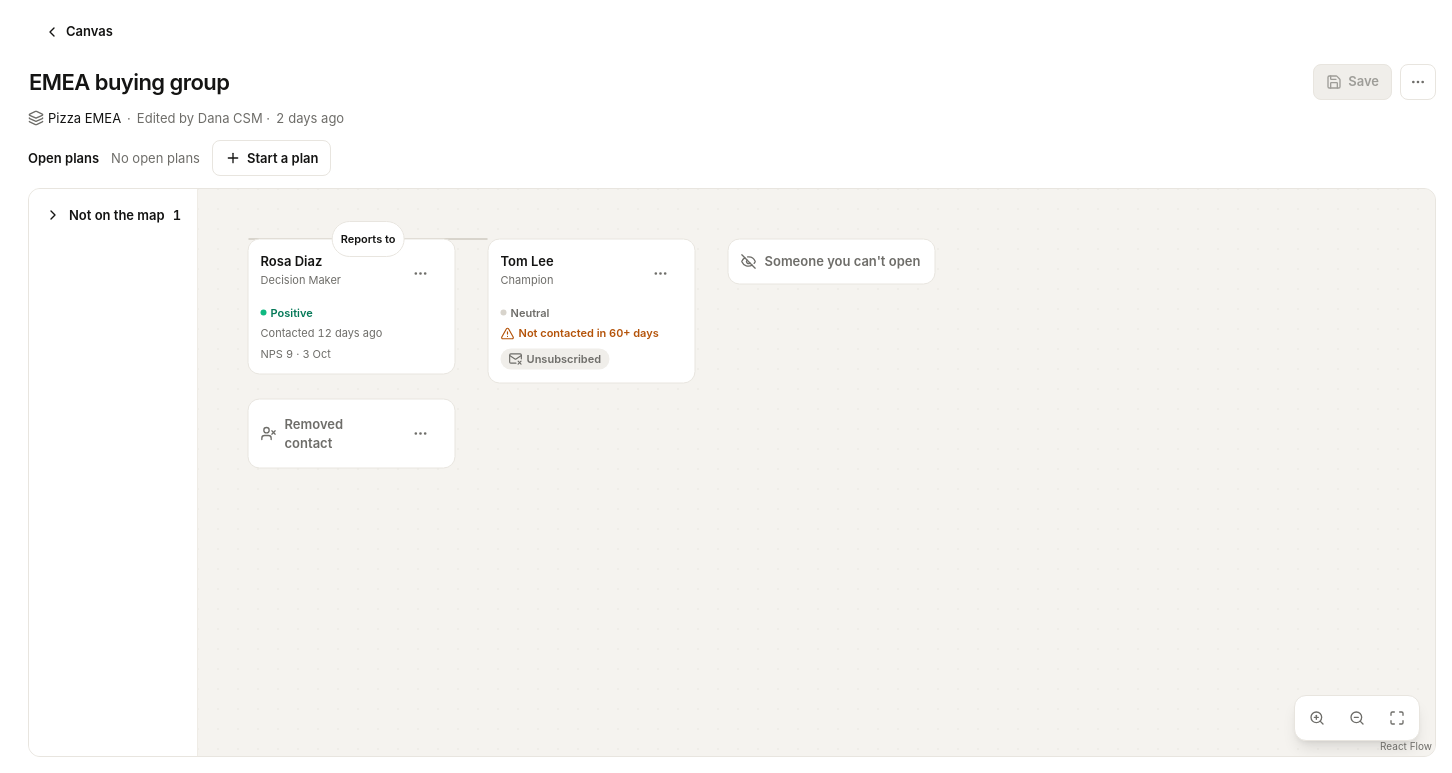
Test: MapEditor: load, header, plans, board, save (spec §2.2) › reads a 404 on save as the missing-map sentence
The width and height of the screenshot is (1452, 773).
Step 1. Type " 2" into the field named "Map name" → {"x": 657, "y": 82}, box x1=20 y1=64 x2=1293 y2=100
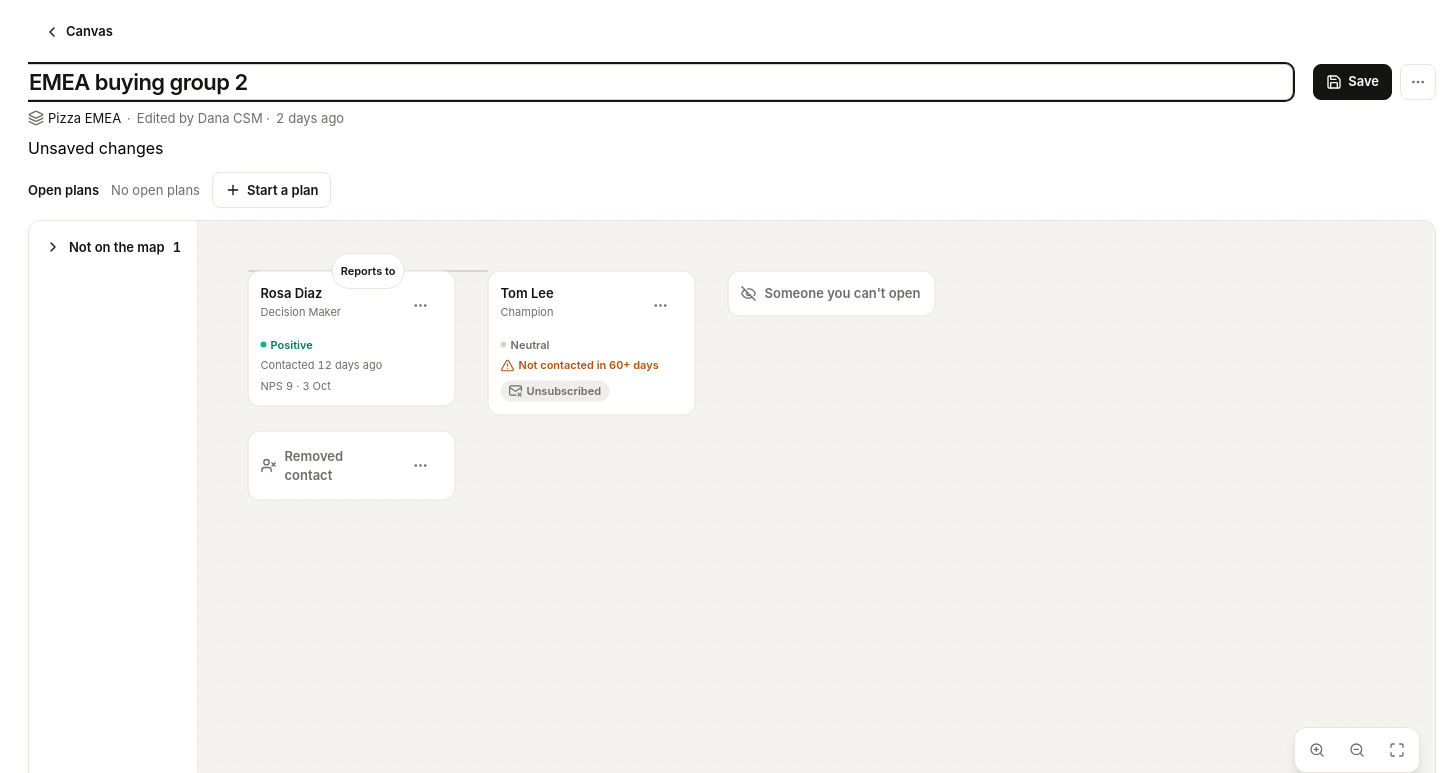
Step 2. Click the button "Save" → {"x": 1353, "y": 82}, box x1=1313 y1=64 x2=1392 y2=100
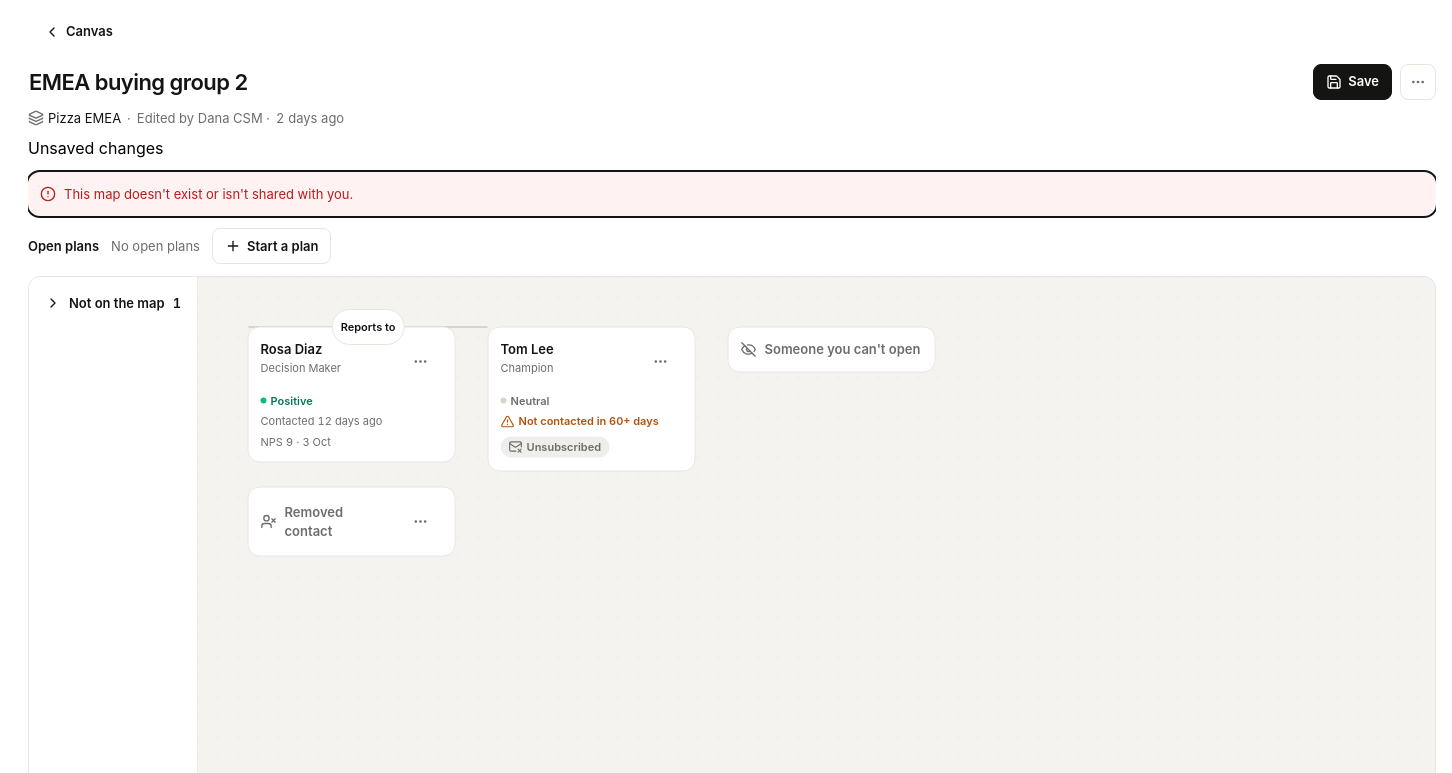
Expected: the message "This map doesn't exist or isn't shared with you." is shown, x1=28 y1=172 x2=1436 y2=216
